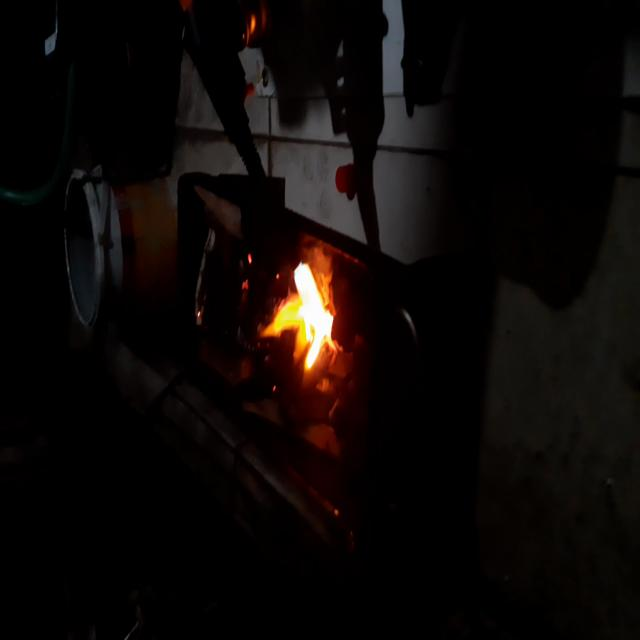Fire: (264, 242, 342, 398)
